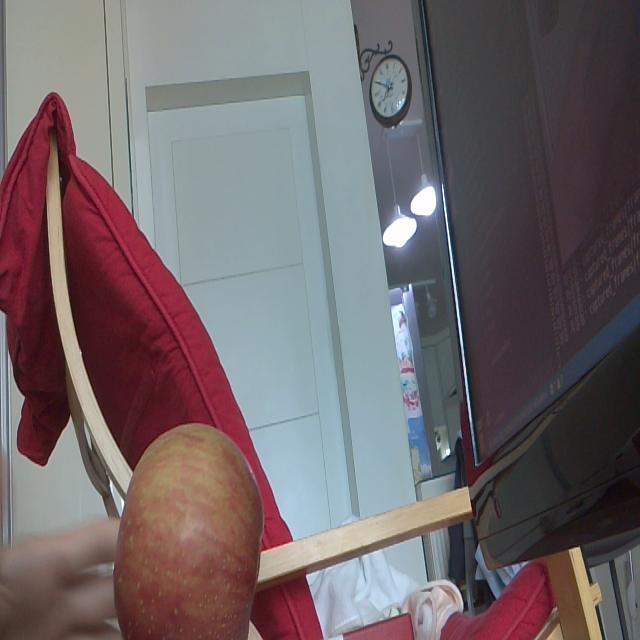apple: (114, 424, 264, 639)
